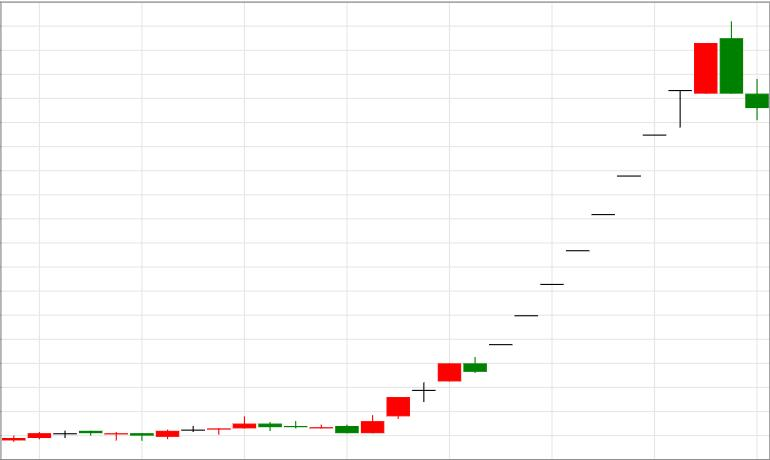bearish_engulfing_fall: (438, 22, 743, 382)
